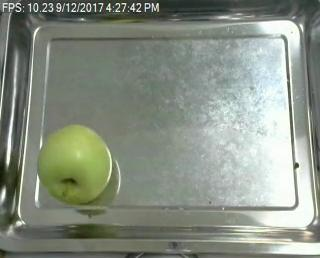fruit: (38, 122, 115, 215)
